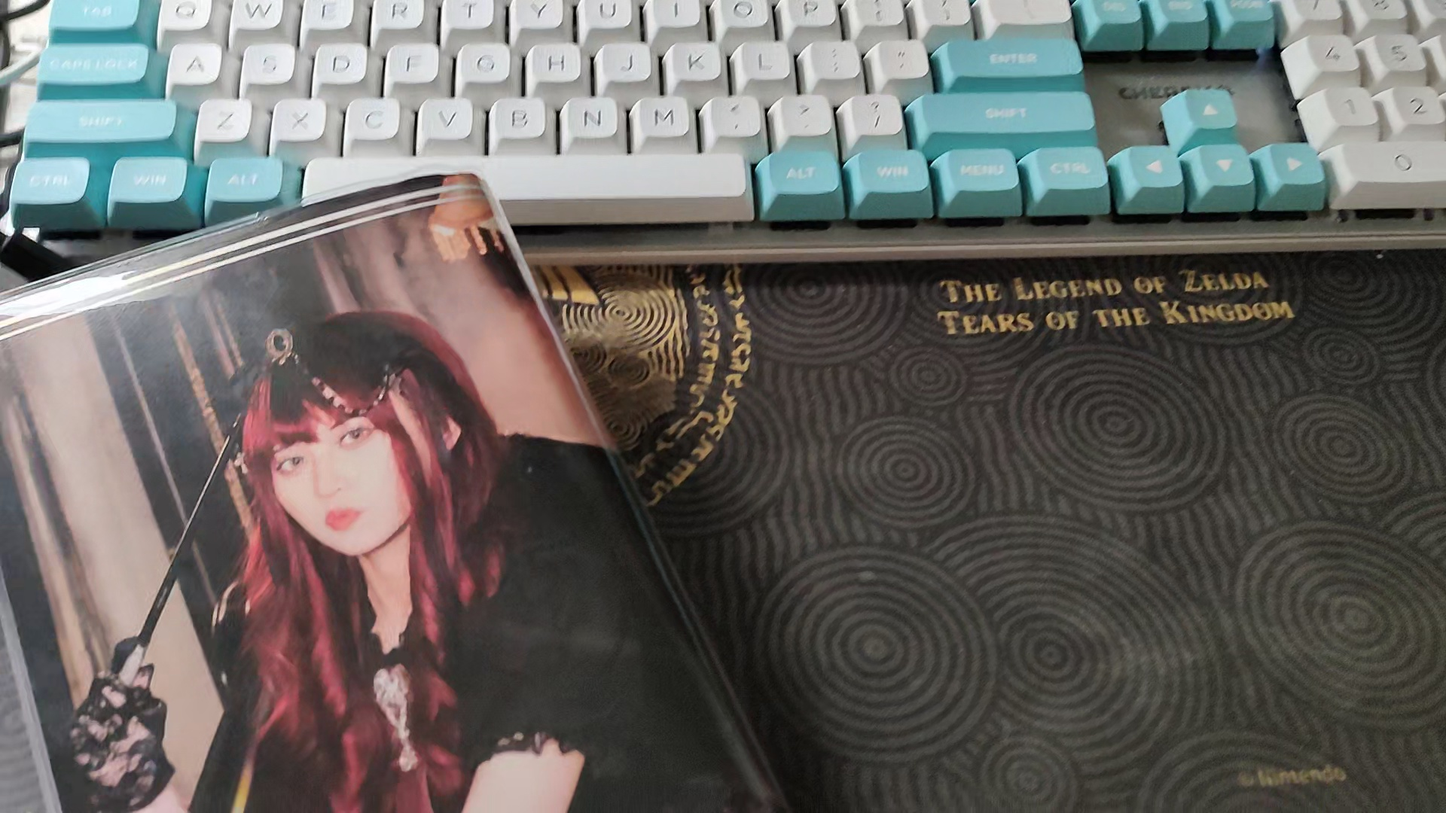Photo_book: (0, 168, 800, 813)
